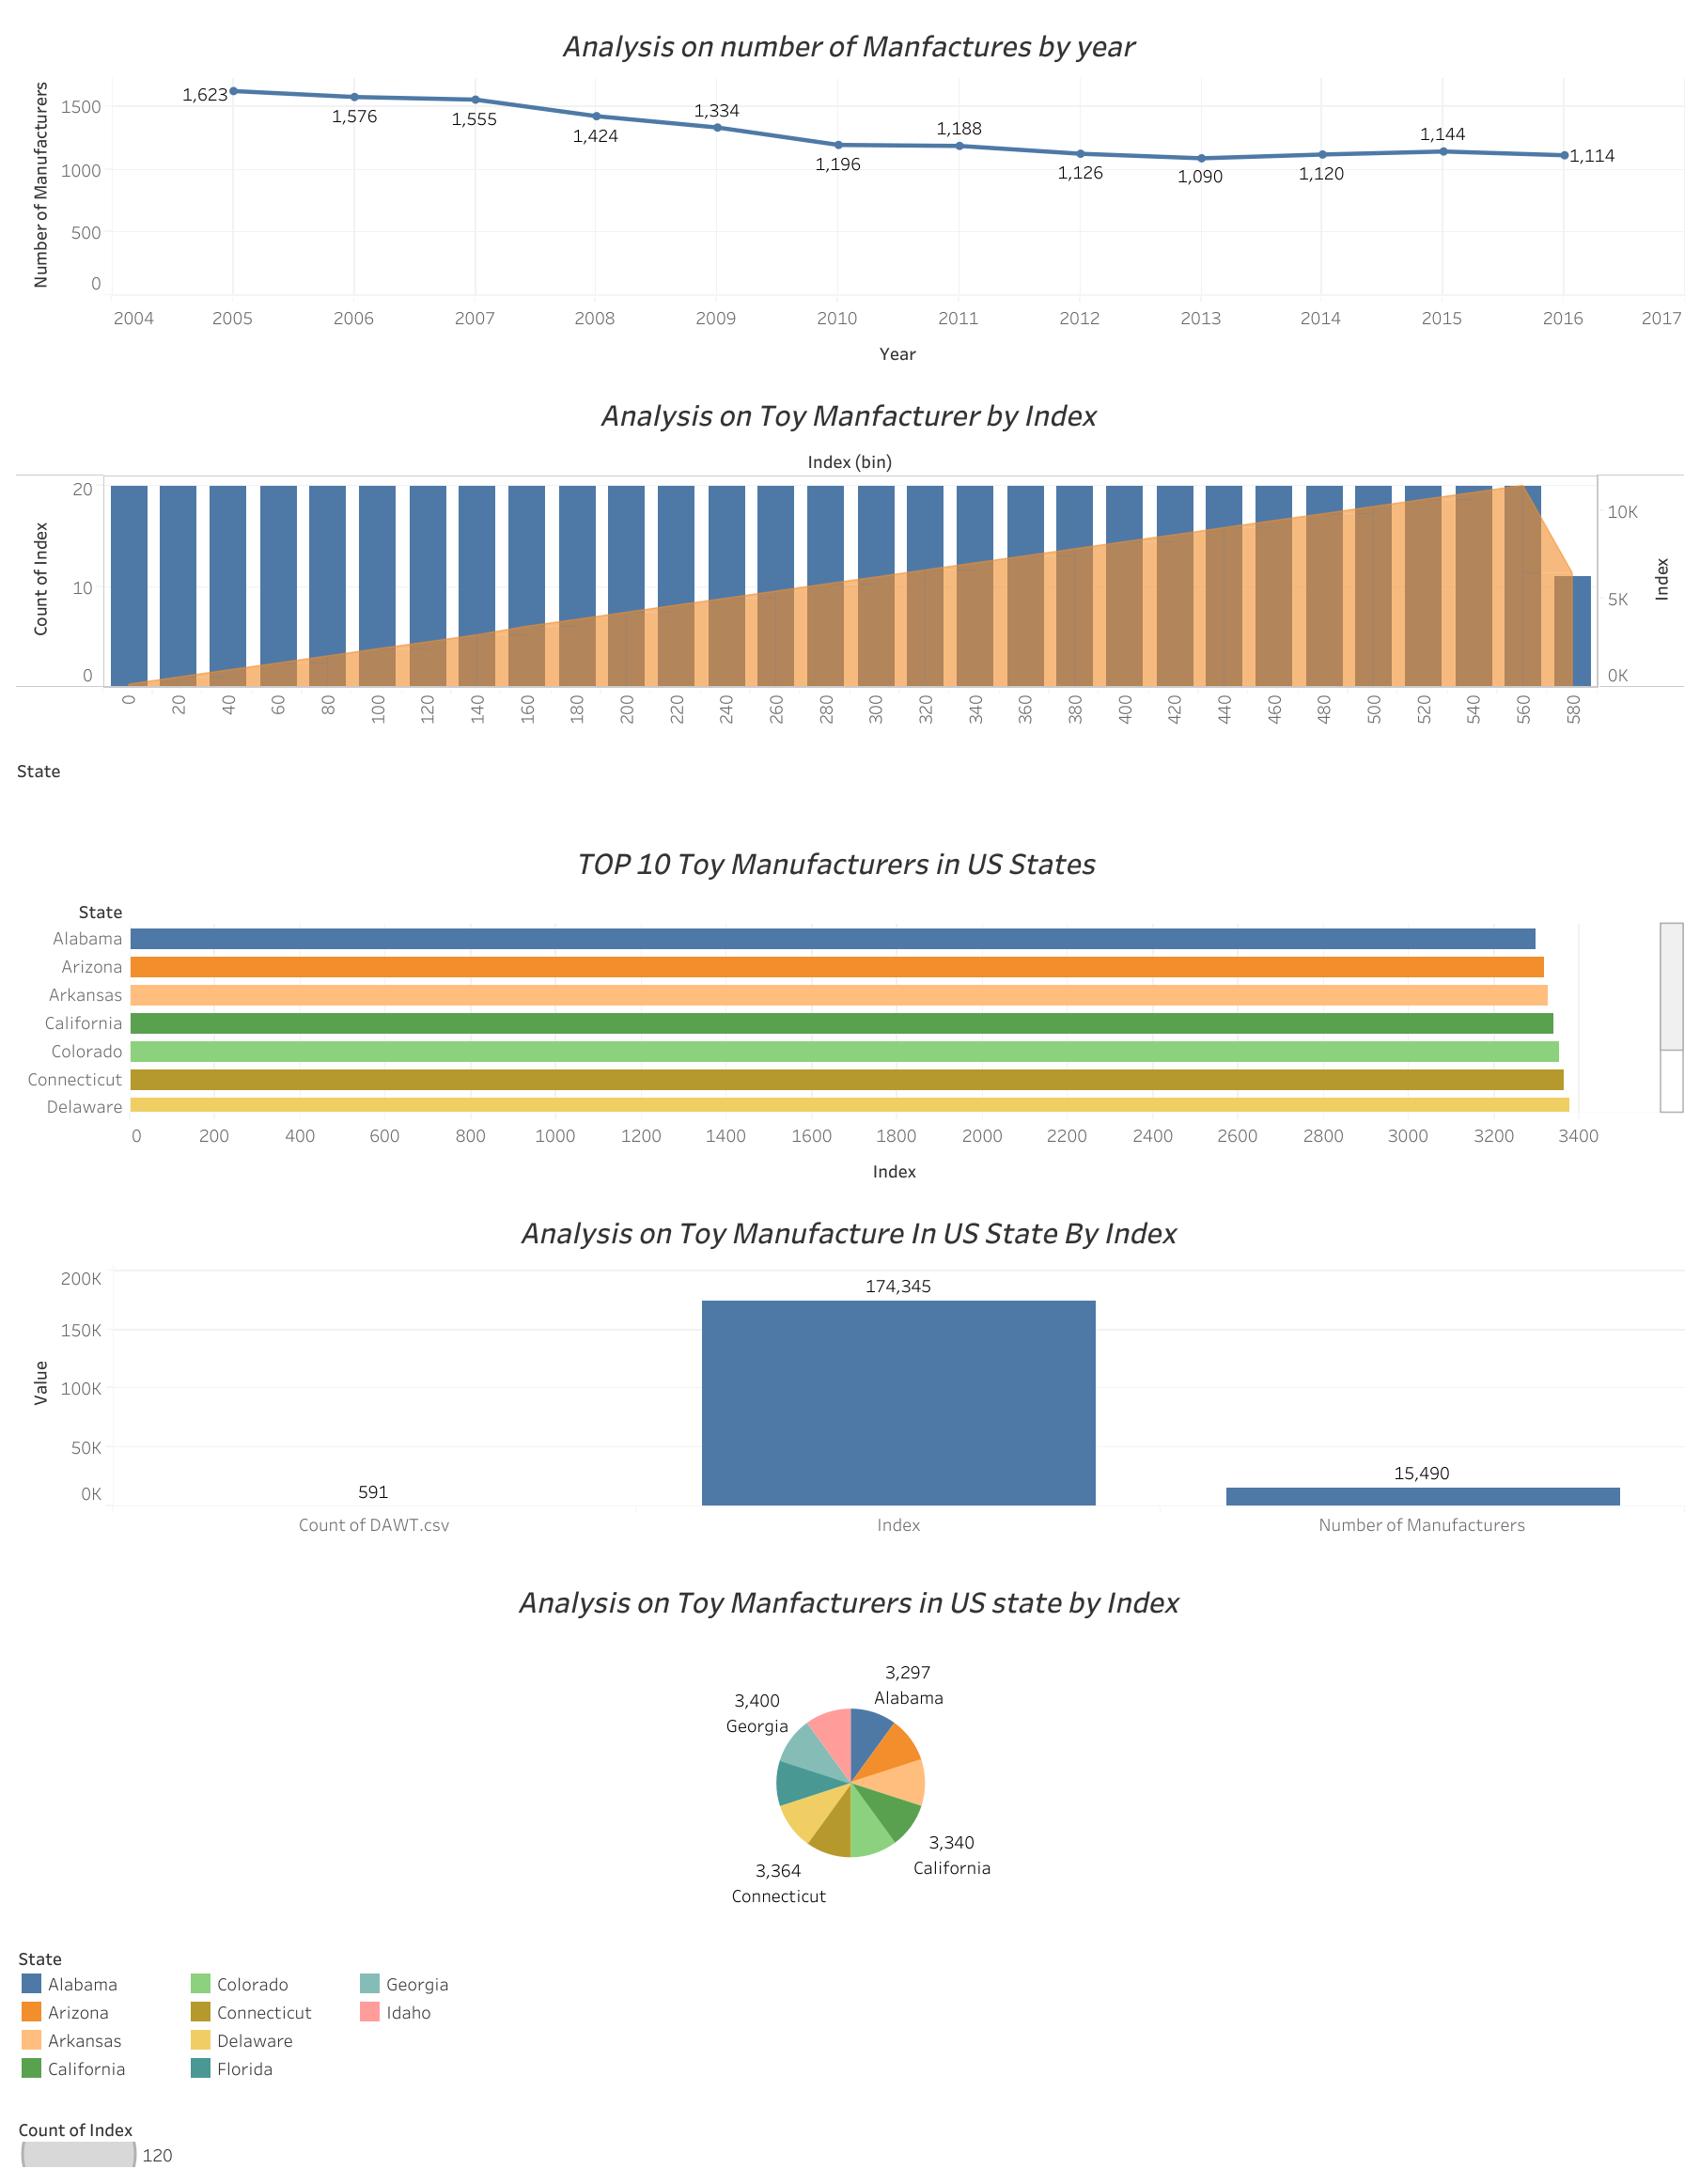

This screenshot's page, from the dashboard's own definition file:
{"tool":"tableau","page":{"name":"Dashboard 1","canvas":[650,860],"ordinal":0},"visuals":[{"type":"worksheet","title":"Analysis on number of manfacturers by year","mark":"Automatic","rows":["Number of Manufacturers"],"cols":["Year"],"box":[21,20,216,254]},{"type":"worksheet","title":"Analysis on Toy Manfacturer by Index","mark":"Automatic","rows":["index","index"],"cols":["Index (bin)"],"box":[379,27,216,254]},{"type":"filter","title":"Top 10 Manfactures in US States","param":"[federated.0ksh74e1e482yq1ddztsm15xj8cg].[none:State:nk]","box":[213,332,160,121]},{"type":"worksheet","title":"Top 10 Manfactures in US States","mark":"Automatic","rows":["State"],"cols":["index"],"box":[373,332,216,254]},{"type":"worksheet","title":"Analysis on Toy Manfacturer in US State by Index","mark":"Automatic","box":[36,337,216,254]},{"type":"worksheet","title":"Analysis on Toy Manfacturers in US State by Index","mark":"Pie","box":[193,572,216,254]},{"type":"legend","title":"Analysis on Toy Manfacturers in US State by Index","param":"[federated.0ksh74e1e482yq1ddztsm15xj8cg].[none:State:nk]","box":[193,572,140,232]},{"type":"legend","title":"Analysis on Toy Manfacturers in US State by Index","param":"[federated.0ksh74e1e482yq1ddztsm15xj8cg].[cnt:index:qk]","box":[208,587,140,43]}]}

Visuals, with their boxes in screenshot pixels (x1, y1, x2, y2), scaled from the page's 650x860 canvas onto the 1700x2184 screenshot:
"Analysis on number of manfacturers by year" worksheet: (x1=55, y1=51, x2=620, y2=695)
"Analysis on Toy Manfacturer by Index" worksheet: (x1=991, y1=69, x2=1556, y2=713)
"Top 10 Manfactures in US States" filter: (x1=557, y1=843, x2=975, y2=1150)
"Top 10 Manfactures in US States" worksheet: (x1=975, y1=843, x2=1540, y2=1489)
"Analysis on Toy Manfacturer in US State by Index" worksheet: (x1=94, y1=856, x2=659, y2=1501)
"Analysis on Toy Manfacturers in US State by Index" worksheet (Pie marks): (x1=505, y1=1453, x2=1069, y2=2098)
"Analysis on Toy Manfacturers in US State by Index" legend: (x1=505, y1=1453, x2=871, y2=2042)
"Analysis on Toy Manfacturers in US State by Index" legend: (x1=544, y1=1490, x2=911, y2=1599)
